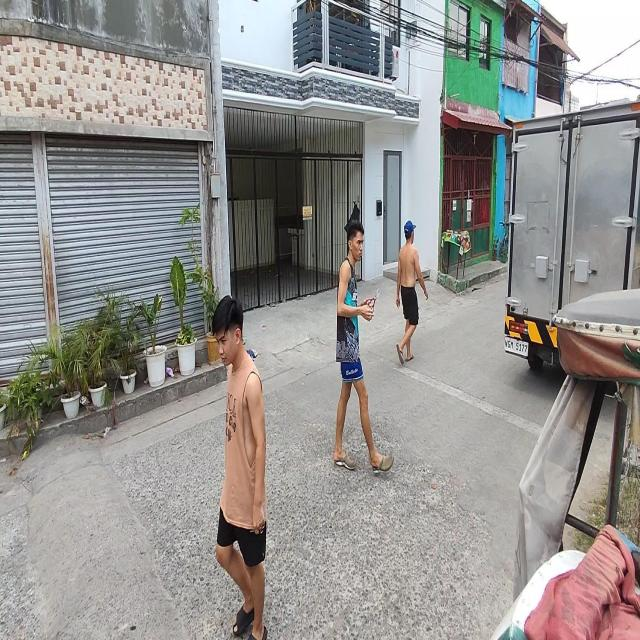scissor: (366, 288, 381, 314)
